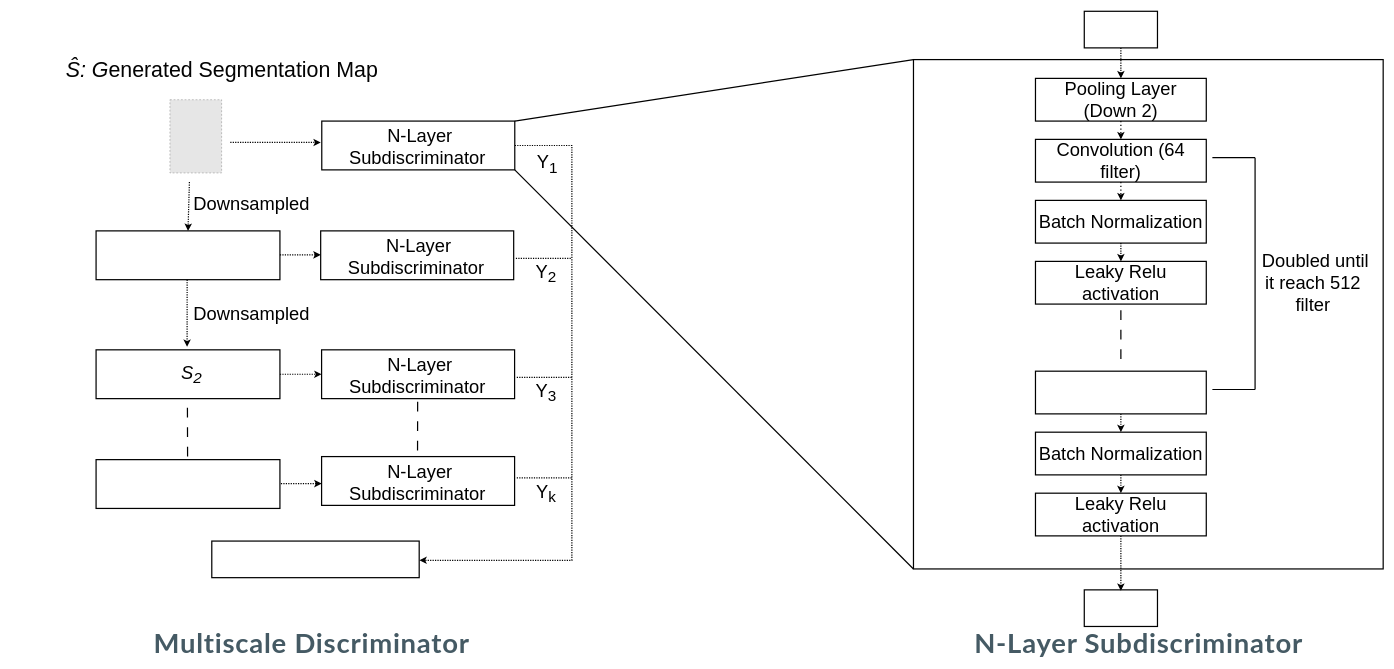
Some shapes in this 1394 by 669 pixel diagram are drawn without their labels. Grey dashed boxes stand in for pictures. Each missing label, with the centre of its shape:
Convolution (512 filter): [1121,392]
S 1: [187,255]
S k -1: [187,484]
Ŝ i-1: [1120,29]
Y 1 , Y 2 ,.........., Y k: [315,559]
Y i: [1120,608]
